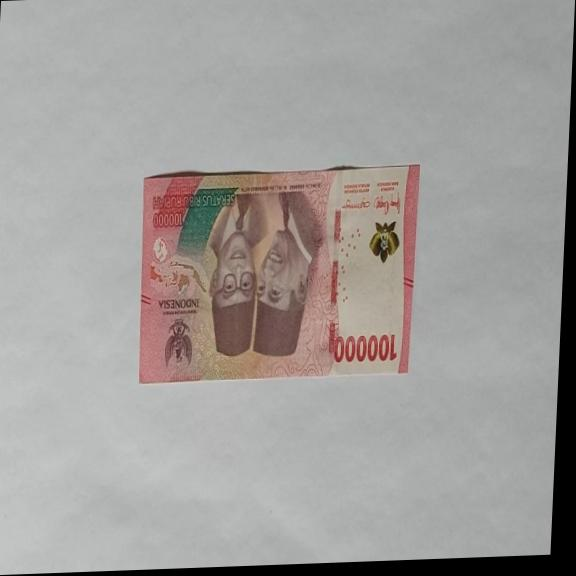Kertas: (133, 162, 420, 386), (331, 330, 398, 367)
